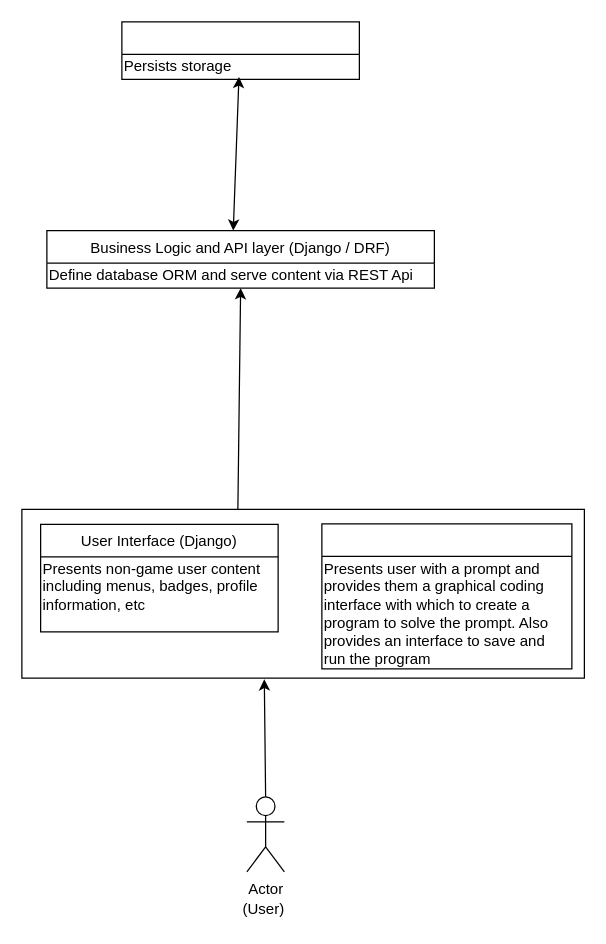
This 606x944 diagram has some shape labels left out. Here are the shapes that lost their labels. From the top down, the box of each, then its label:
(121, 21, 359, 79): Persistance Layer (SQLite DB)
(321, 522, 572, 669): Game interface (Blockly)
